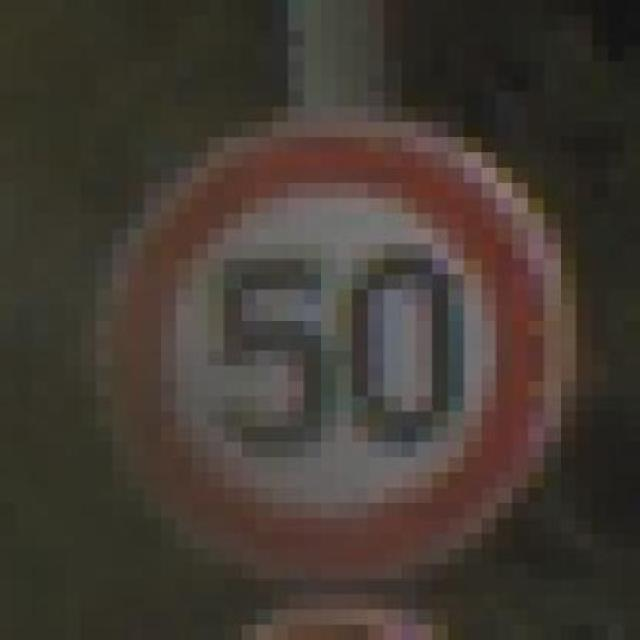forb_speed_over_50: (106, 118, 560, 578)
